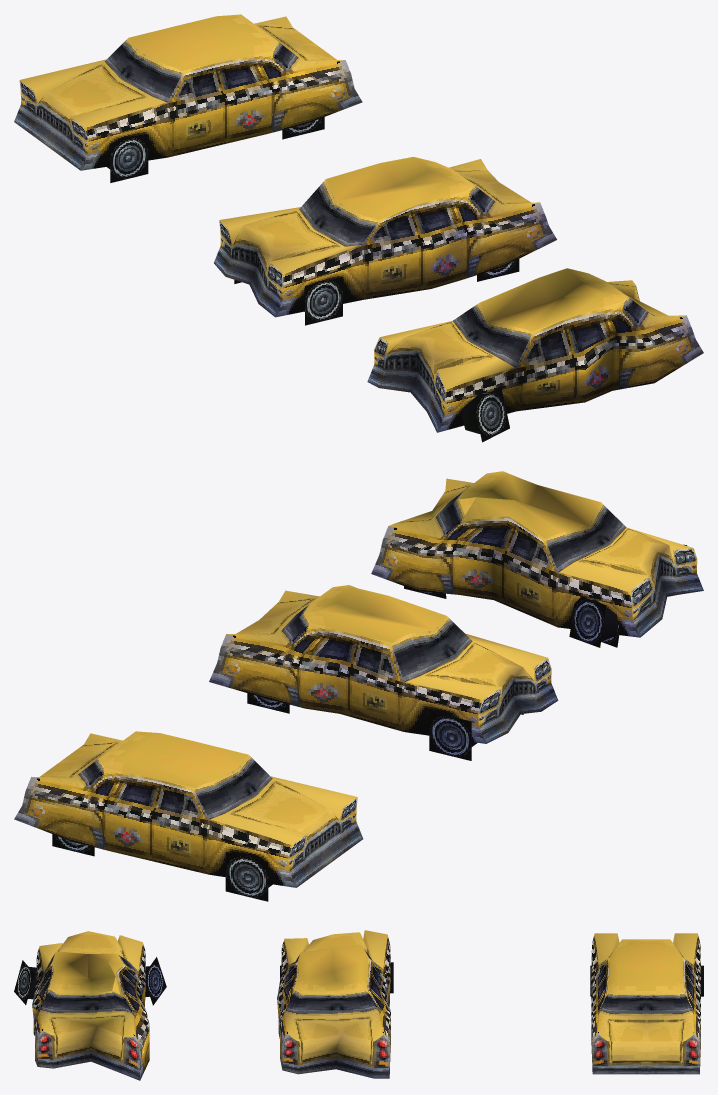
Rendered from Taxi.glb.
The picture shows the model from 3 angles, top to bottom: view 1: azimuth 30°, elevation 25°; view 2: azimuth 150°, elevation 25°; view 3: azimuth 270°, elevation 25°; orthographic projection. The views are drawn at different scales.
Visible parts, largest first — view 1: Checker.002; view 2: Checker.002; view 3: Checker.002.
Part boxes in pixels (x1,y1,x2,y2): Checker.002: [14, 14, 703, 442]; Checker.002: [14, 471, 703, 901]; Checker.002: [14, 930, 703, 1080].
Size of the model in its own units: 5.28 by 1.81 by 14.05.
1 material, 1 textured.
